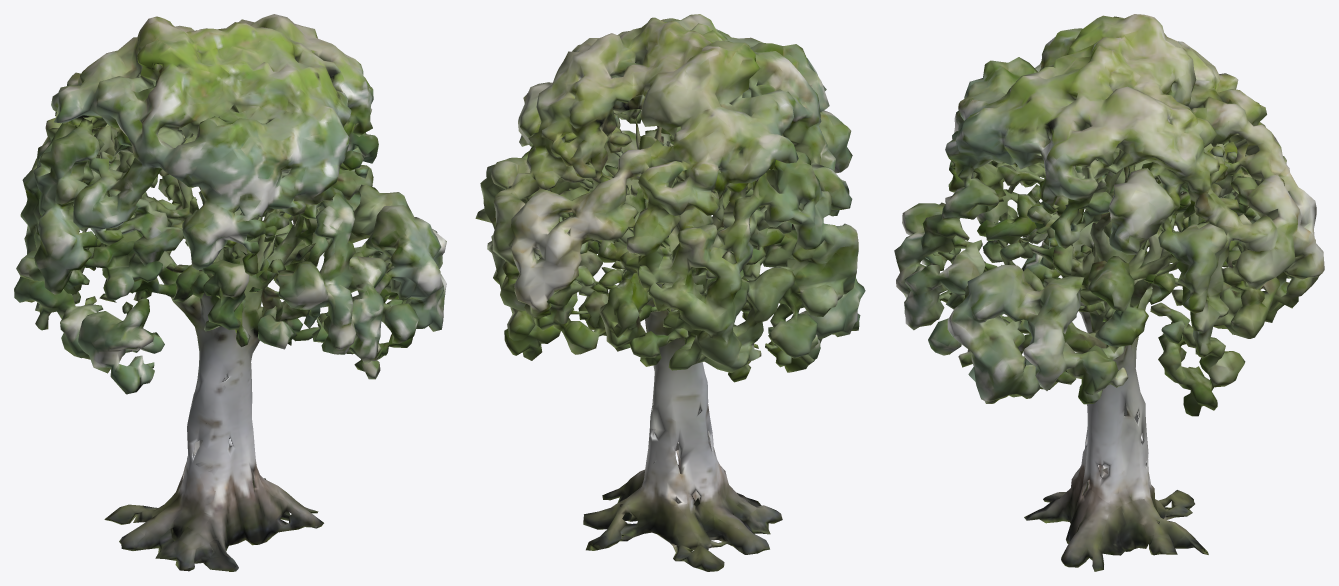
The model's file is AI_Sycamore03.fbx.
3 views of the same model, side by side, from view 1: azimuth 30°, elevation 25°; view 2: azimuth 150°, elevation 25°; view 3: azimuth 270°, elevation 25° (orthographic). The views are drawn at different scales.
Visible parts, largest first — view 1: Mesh1.0; view 2: Mesh1.0; view 3: Mesh1.0.
Boxes of the visible parts, x1,y1,x2,y2 form: Mesh1.0: (14,14,446,571); Mesh1.0: (475,14,865,571); Mesh1.0: (894,14,1324,571).
Bounding box in the file's own units: 151 × 200 × 157.
1 material, 1 textured.
